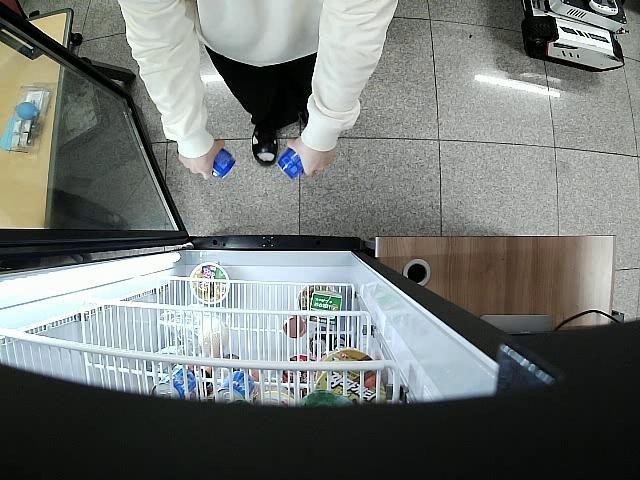13_pocariSweat: (276, 148, 303, 182), (210, 146, 237, 179)
